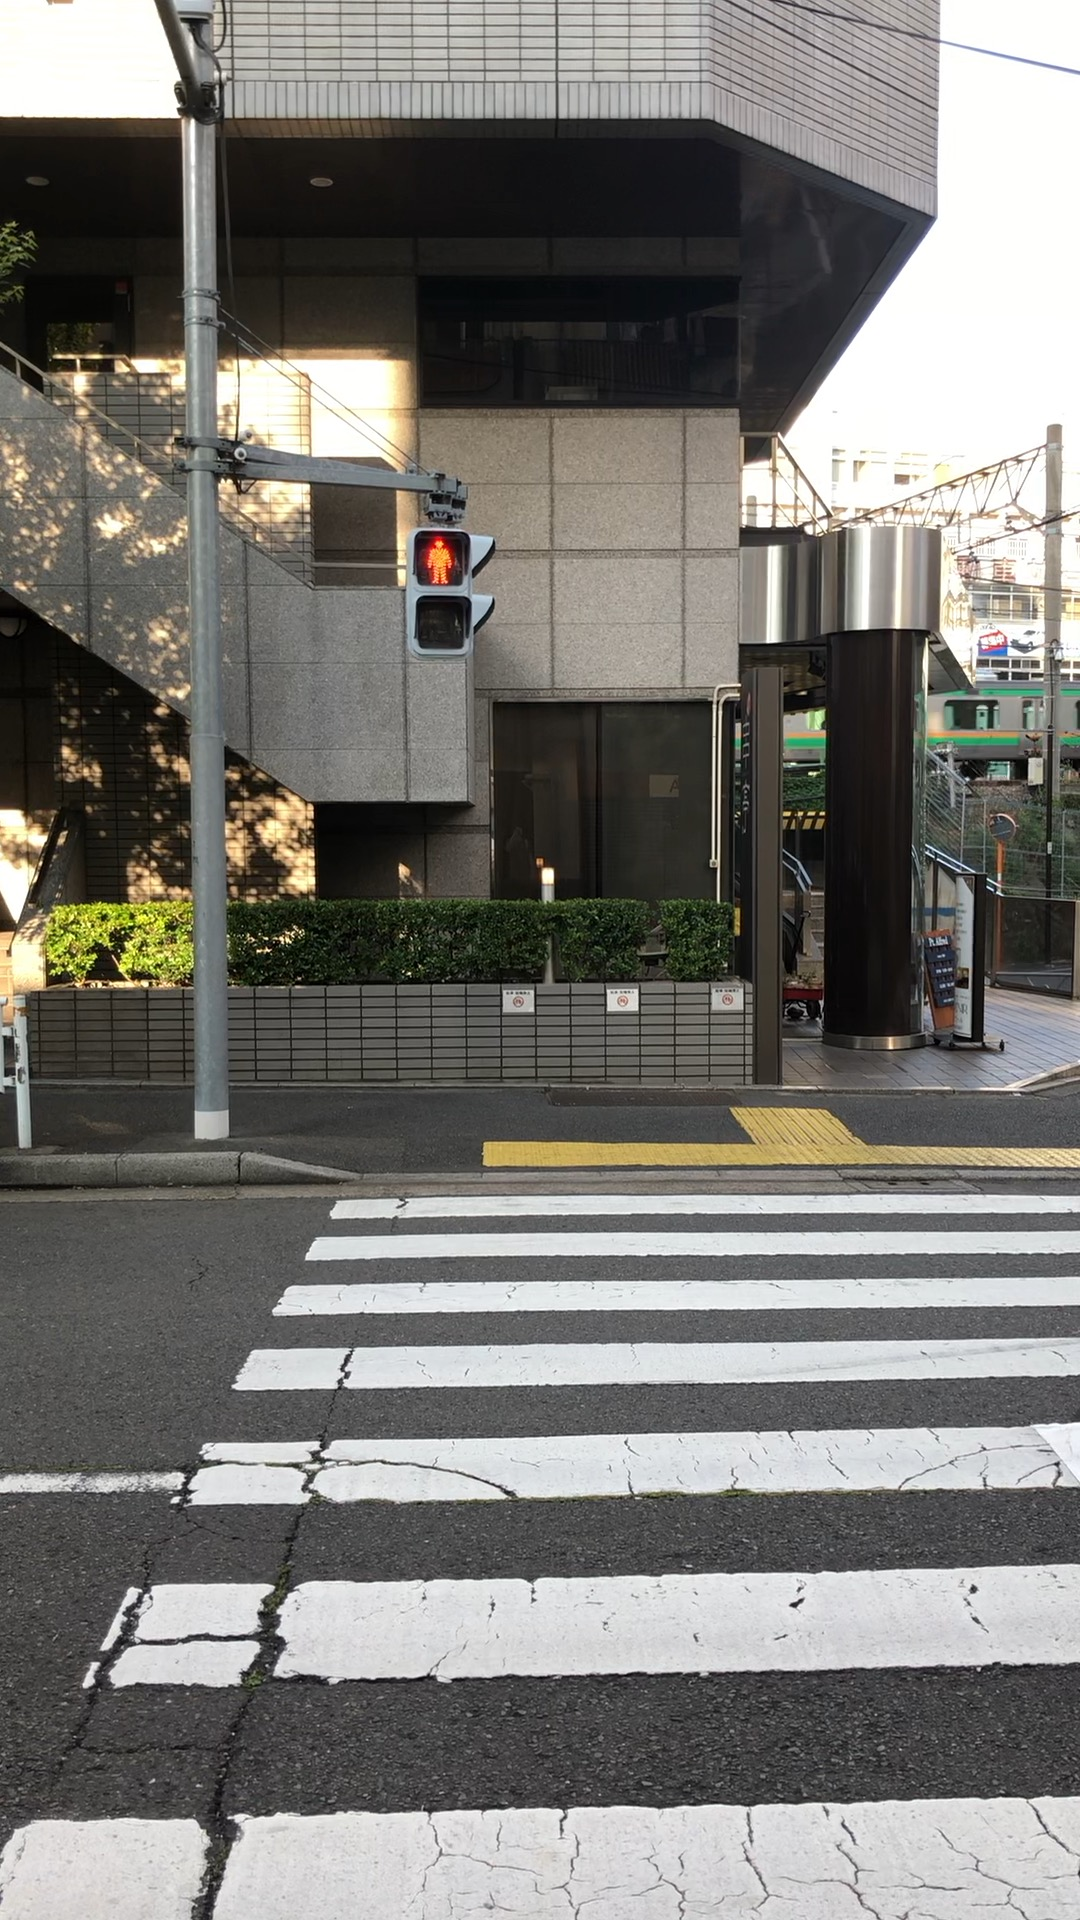red: (405, 527, 471, 659)
